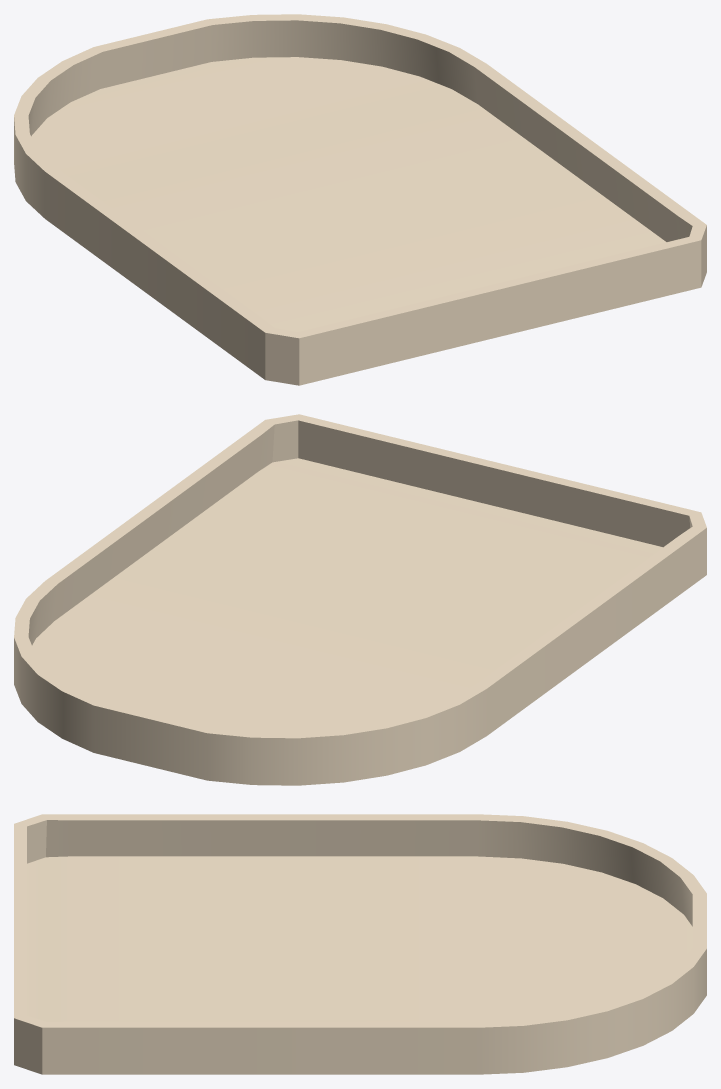
The model's file is cup_base_bottom.glb.
3 views of the same model, one above another, from view 1: azimuth 30°, elevation 25°; view 2: azimuth 150°, elevation 25°; view 3: azimuth 270°, elevation 25° (orthographic).
Visible parts, largest first — view 1: cup_base_bottom; view 2: cup_base_bottom; view 3: cup_base_bottom.
Boxes of the visible parts, x1,y1,x2,y2 form: cup_base_bottom: [14, 14, 706, 385]; cup_base_bottom: [14, 414, 706, 785]; cup_base_bottom: [14, 814, 706, 1074].
Size of the model in its own units: 0.0701 by 0.00718 by 0.0961.
